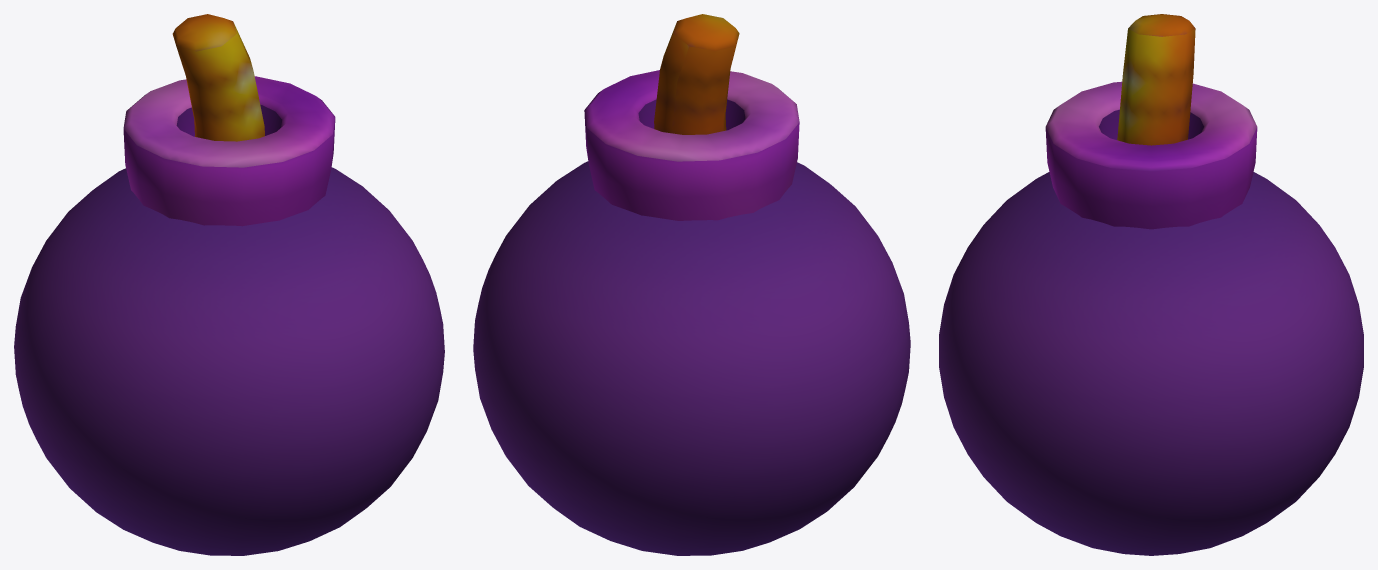
The model's file is Bomb.glb.
3 views of the same model, side by side, from view 1: azimuth 30°, elevation 25°; view 2: azimuth 150°, elevation 25°; view 3: azimuth 270°, elevation 25° (orthographic). The views are drawn at different scales.
Visible parts, largest first — view 1: geometry_0; view 2: geometry_0; view 3: geometry_0.
Part boxes in pixels (x1,y1,x2,y2): geometry_0: (14, 14, 444, 555); geometry_0: (473, 14, 910, 555); geometry_0: (939, 14, 1363, 555).
Size of the model in its own units: 0.362 by 0.4768 by 0.362.
1 material, 1 textured.
